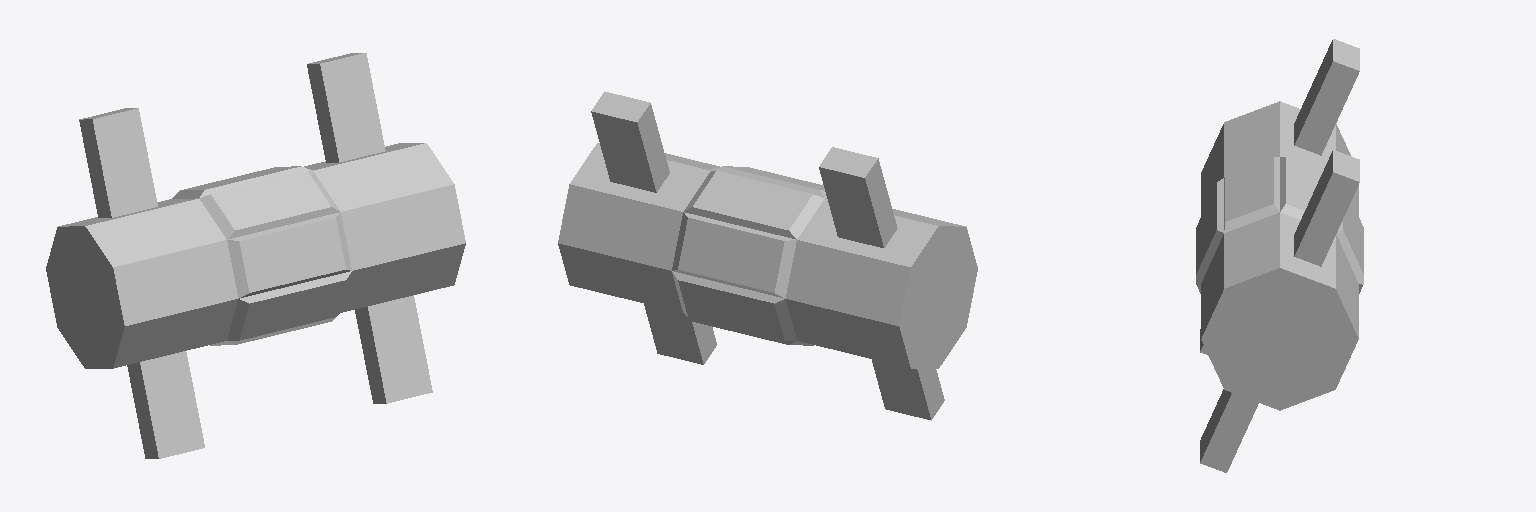
The model's file is AntennaArm2.obj.
The picture shows the model from 3 angles: view 1: azimuth 30°, elevation 25°; view 2: azimuth 150°, elevation 25°; view 3: azimuth 270°, elevation 25°; orthographic projection.
Visible parts, largest first — view 1: Atenna_Arm_Cylinder.004; view 2: Atenna_Arm_Cylinder.004; view 3: Atenna_Arm_Cylinder.004.
Boxes of the visible parts, <box> form: Atenna_Arm_Cylinder.004: <box>46,53,465,458</box>; Atenna_Arm_Cylinder.004: <box>558,91,977,420</box>; Atenna_Arm_Cylinder.004: <box>1196,39,1363,472</box>.
Bounding box in the file's own units: 1 × 0.8433 × 0.424.